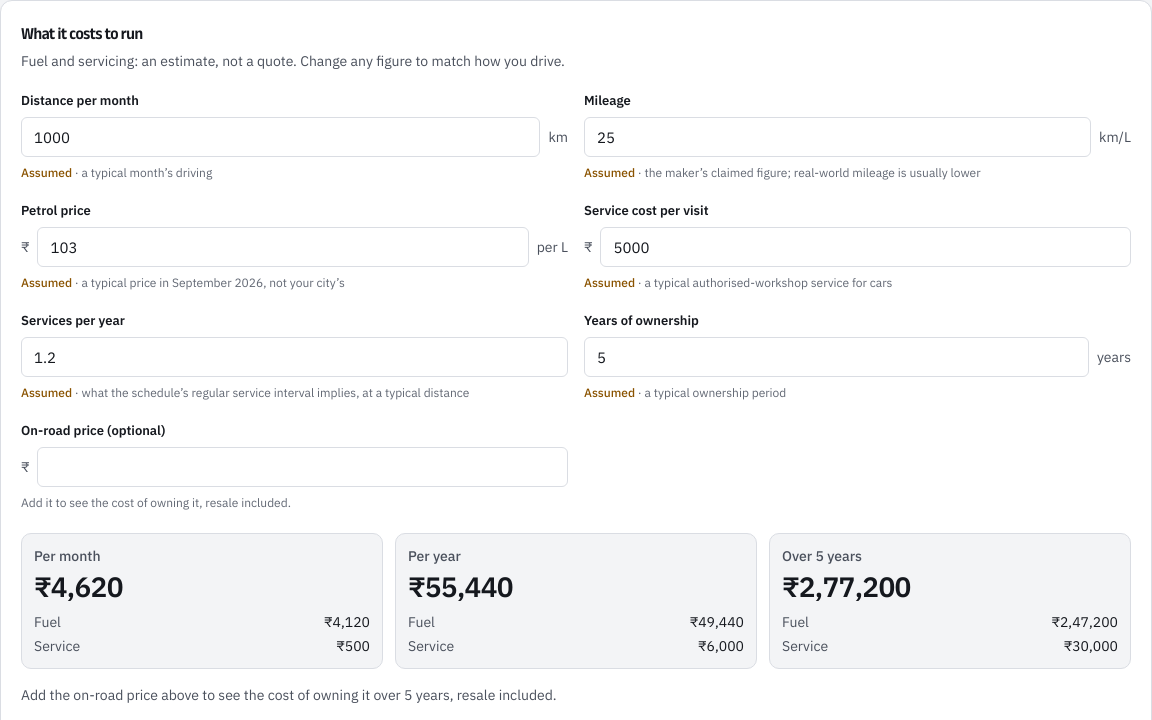
Test: RunningCostCalculator › still works when localStorage throws
Replace the text in the field labelled "Distance per month" with "2000" at (281, 137), box [21, 117, 540, 157]
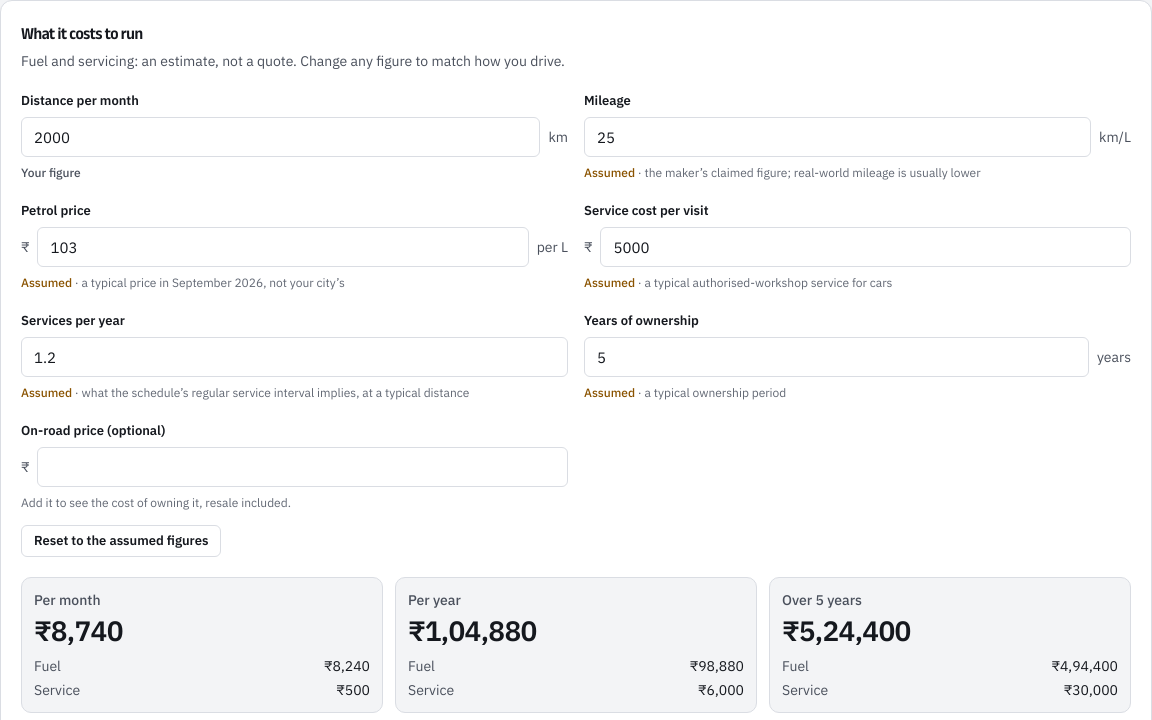
Now the text "₹8,240" is shown, box [324, 656, 370, 676]
